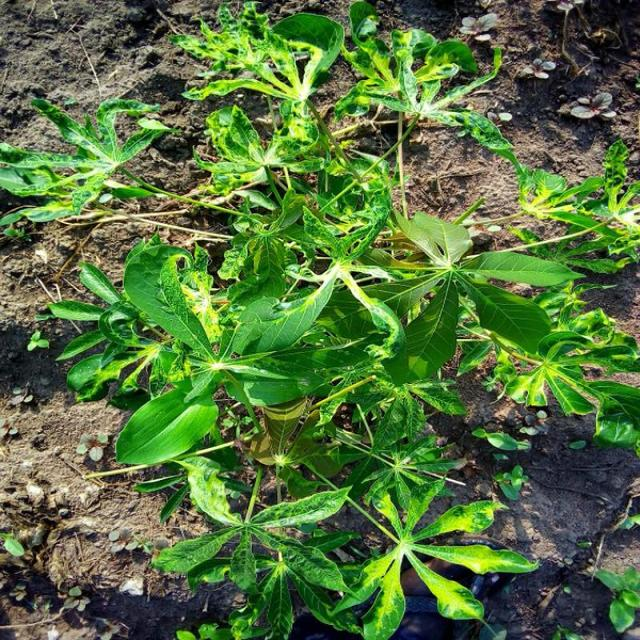cassava leaf: (5, 1, 638, 637), (115, 384, 220, 467)
